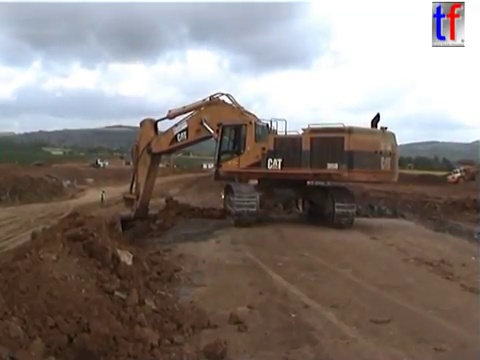excavator: (110, 90, 402, 243)
truck: (217, 175, 323, 220), (445, 164, 477, 186), (89, 156, 108, 170), (97, 188, 108, 211)
